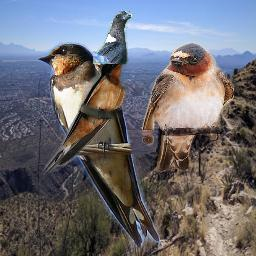Crow: (93, 11, 133, 64)
Swallow: (36, 42, 160, 248), (142, 42, 234, 172), (39, 56, 130, 175)
